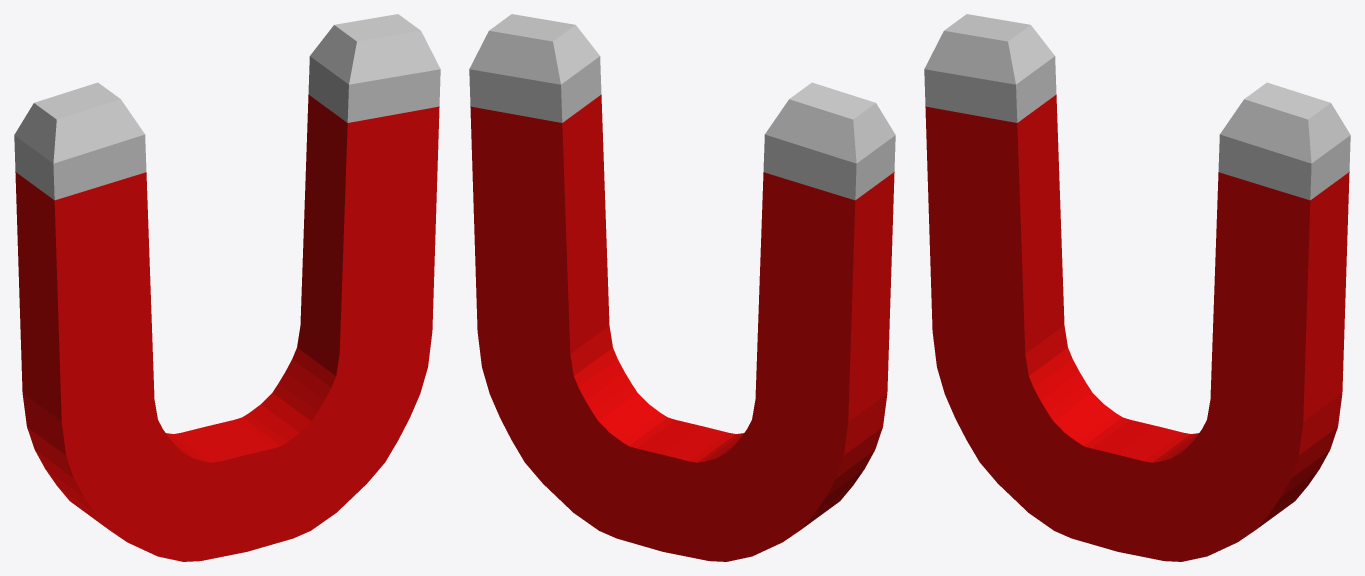
File: Magnet.fbx
The picture shows the model from 3 angles, left to right: view 1: azimuth 30°, elevation 25°; view 2: azimuth 150°, elevation 25°; view 3: azimuth 330°, elevation 25°; orthographic projection.
Visible parts, largest first — view 1: Cube; view 2: Cube; view 3: Cube.
Boxes of the visible parts, <box> form: Cube: <box>14,14,440,561</box>; Cube: <box>469,14,895,561</box>; Cube: <box>924,14,1350,561</box>.
Size of the model in its own units: 827 by 970 by 145.
